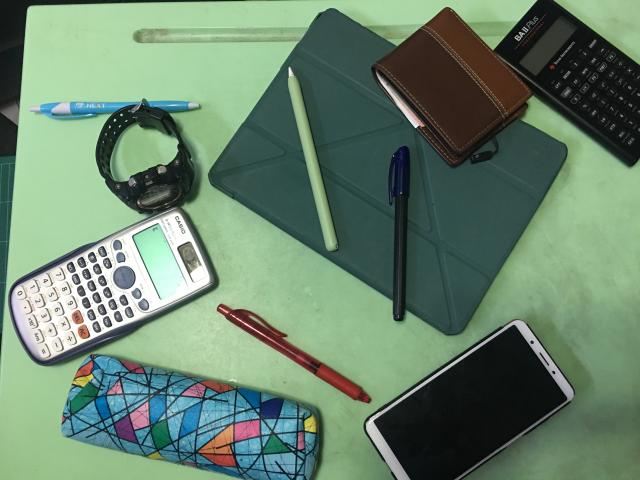Mobile phone: (363, 320, 575, 480)
Pen: (218, 304, 370, 402), (35, 100, 207, 123), (389, 146, 410, 321)
Wallet: (371, 9, 534, 168)
Watch: (95, 99, 195, 214)
